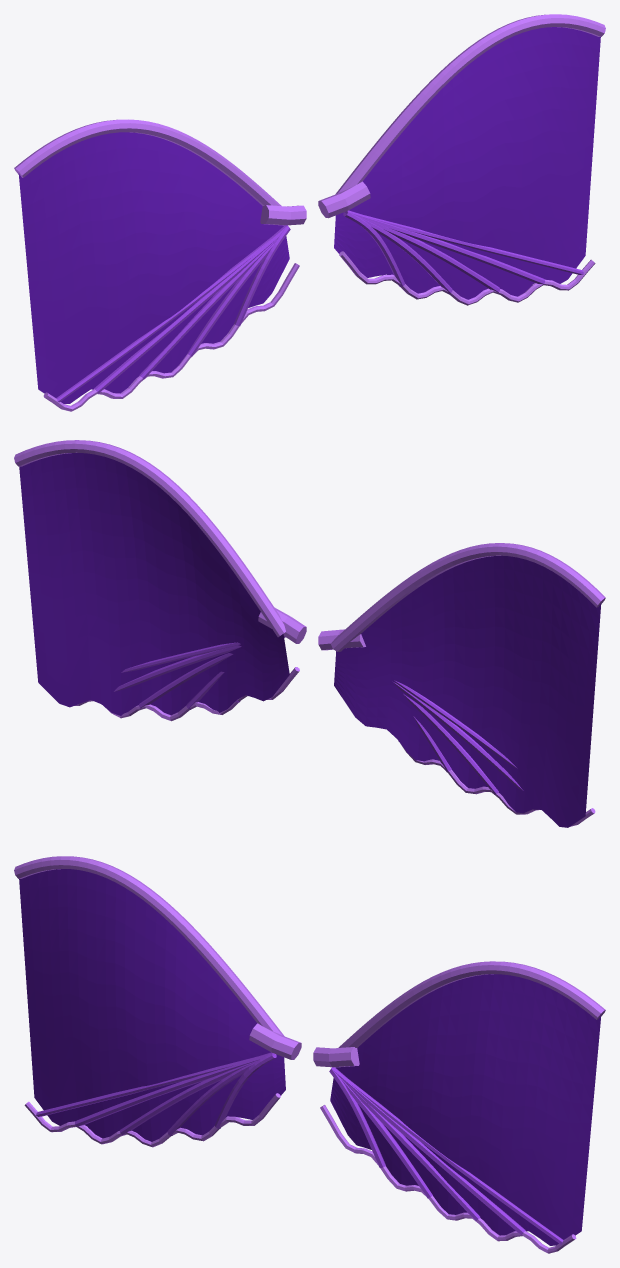
Rendered from violet_wings.obj.
The picture shows the model from 3 angles, top to bottom: view 1: azimuth 30°, elevation 25°; view 2: azimuth 150°, elevation 25°; view 3: azimuth 330°, elevation 25°; orthographic projection.
Parts seen in each view (by area): view 1: LeftWing, RightWing; view 2: RightWing, LeftWing; view 3: RightWing, LeftWing.
Part boxes in pixels (box(x1,y1,x2,y2)): LeftWing: box(14, 119, 306, 411); RightWing: box(318, 14, 605, 305); RightWing: box(14, 440, 306, 721); LeftWing: box(318, 543, 605, 827); RightWing: box(313, 961, 605, 1253); LeftWing: box(14, 856, 301, 1147).
Bounding box in the file's own units: 2.67 × 1.2 × 0.1248.
